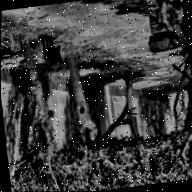boar: (33, 25, 72, 72)
